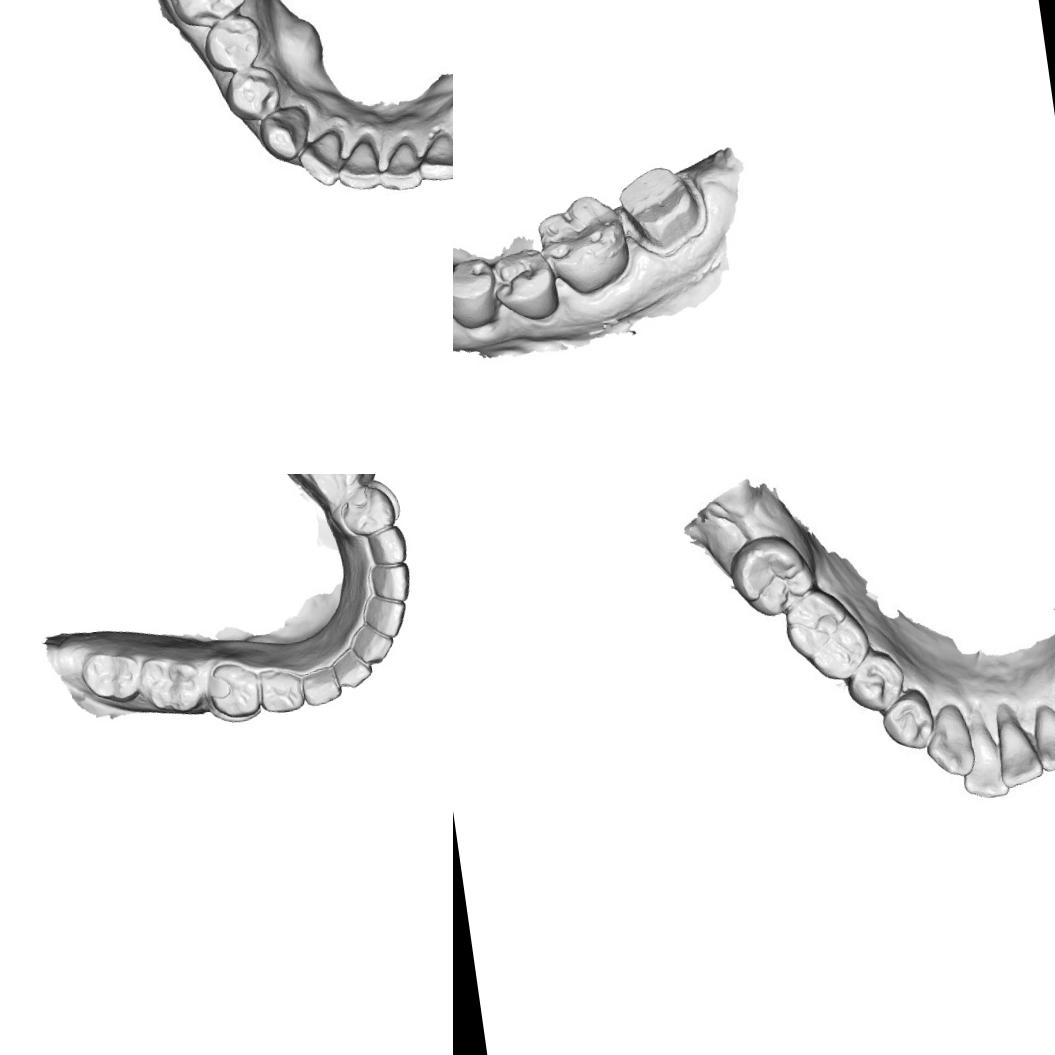canine: (922, 700, 978, 780), (255, 104, 319, 161), (364, 522, 410, 568), (298, 664, 344, 709)
crown: (613, 161, 717, 255)
incisor: (956, 702, 1014, 799), (991, 701, 1048, 787), (374, 136, 428, 198), (296, 128, 349, 188), (332, 136, 382, 195), (358, 588, 411, 642), (346, 618, 397, 668), (364, 557, 414, 607), (414, 120, 453, 183), (330, 644, 376, 692), (1029, 701, 1055, 771)
molar: (532, 186, 638, 300), (778, 583, 878, 690), (725, 530, 817, 622), (133, 651, 207, 720), (77, 645, 146, 708), (156, 0, 262, 25)
premolar: (488, 242, 560, 326), (203, 658, 265, 724), (453, 254, 502, 335), (845, 650, 905, 716), (337, 482, 399, 540), (222, 63, 284, 120), (204, 13, 263, 72), (882, 693, 936, 749), (255, 662, 307, 717), (301, 474, 371, 507)
